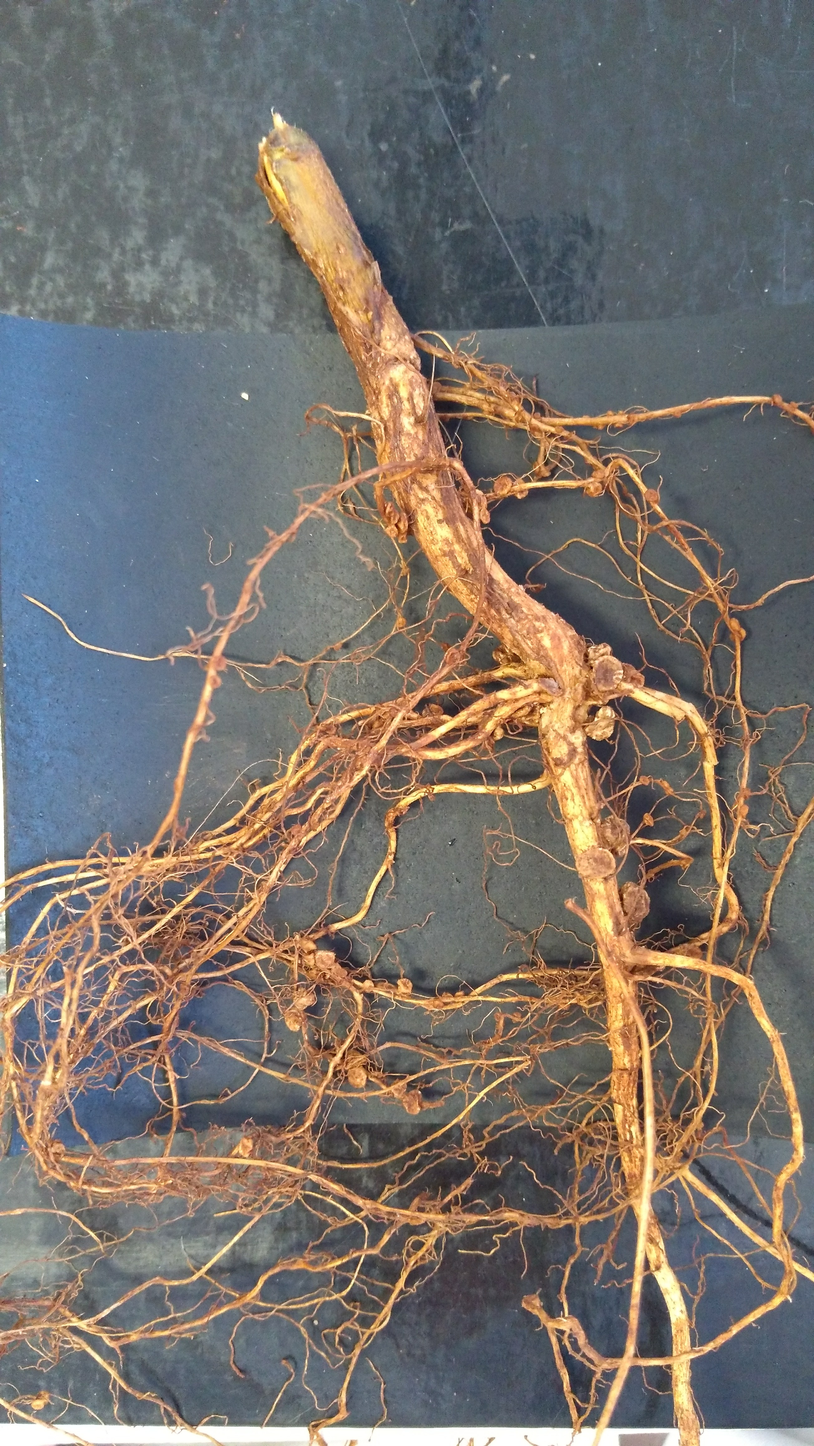nodule: (619, 879, 653, 928), (598, 814, 634, 858), (572, 848, 621, 880), (582, 703, 618, 742), (592, 654, 625, 694), (583, 638, 615, 668), (628, 957, 666, 982), (620, 659, 648, 691), (490, 642, 524, 666), (281, 1006, 306, 1033), (672, 941, 704, 962), (475, 489, 493, 526), (292, 986, 318, 1011), (537, 677, 567, 698), (441, 646, 468, 669), (344, 1049, 371, 1071), (403, 1088, 425, 1115), (346, 1066, 370, 1089), (313, 948, 337, 969), (493, 475, 514, 498), (238, 1135, 257, 1160), (394, 510, 413, 534), (512, 477, 531, 500), (389, 1076, 407, 1100), (420, 701, 447, 716), (584, 481, 605, 500), (385, 499, 400, 525), (382, 522, 402, 541), (395, 976, 414, 996), (297, 936, 318, 954), (328, 962, 349, 978), (34, 1388, 52, 1406), (644, 487, 660, 506), (47, 1138, 67, 1153), (366, 717, 388, 730), (395, 533, 415, 547), (643, 811, 657, 829), (661, 779, 675, 797), (361, 979, 376, 995), (394, 615, 410, 630), (492, 726, 506, 742), (728, 616, 741, 633), (737, 625, 749, 643), (738, 804, 752, 819), (430, 998, 446, 1011), (590, 421, 607, 432), (30, 1399, 47, 1410), (309, 815, 320, 831), (639, 774, 652, 787), (573, 990, 587, 1002), (552, 424, 566, 435), (511, 1011, 522, 1025), (380, 709, 395, 719), (591, 469, 607, 478), (698, 808, 710, 820), (771, 393, 783, 405), (290, 823, 301, 836), (440, 991, 455, 1000), (332, 642, 344, 653), (454, 989, 467, 999), (743, 786, 751, 802), (493, 1011, 504, 1022), (390, 706, 400, 718), (616, 409, 628, 418), (532, 460, 540, 473), (612, 421, 625, 429), (532, 411, 542, 421), (728, 632, 735, 643), (580, 413, 590, 420), (606, 409, 613, 415)
